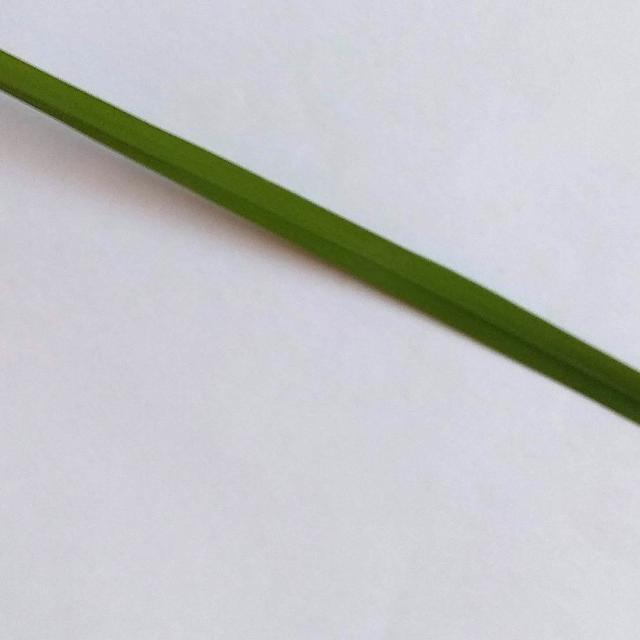Rice_Healthy: (0, 49, 640, 424)
